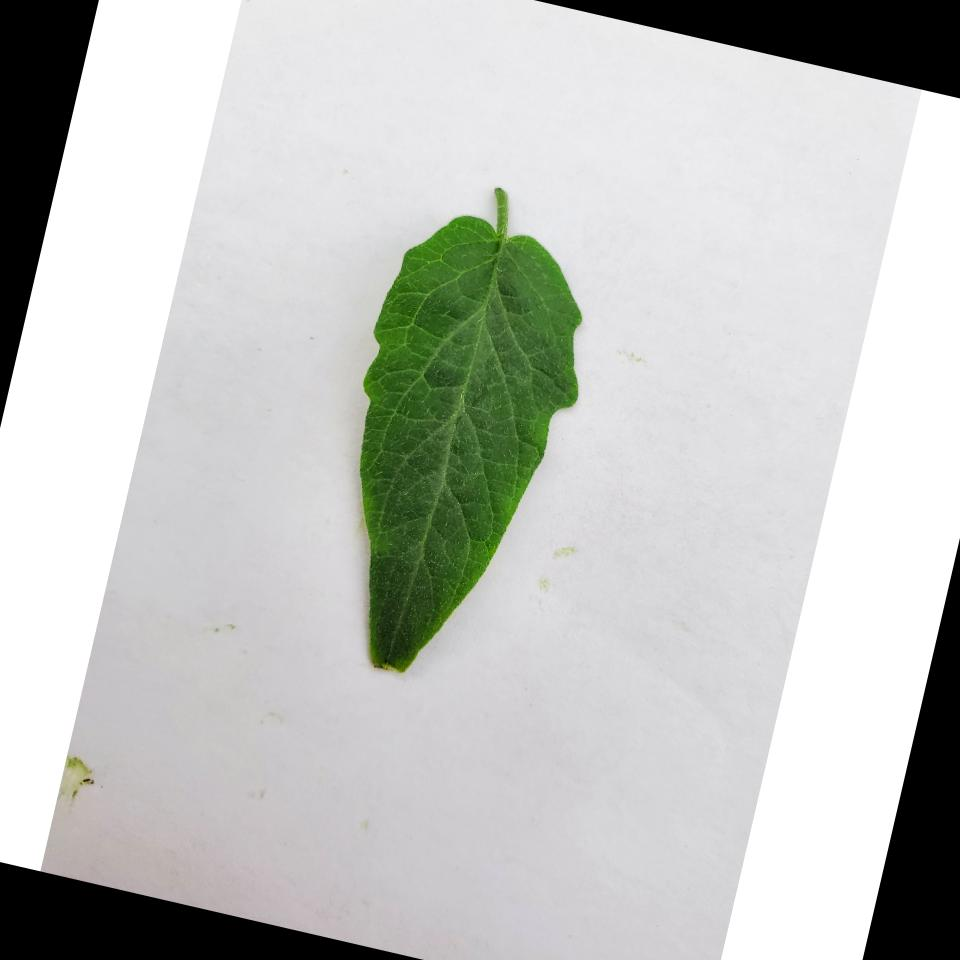tomato_leaves: (296, 165, 612, 709)
